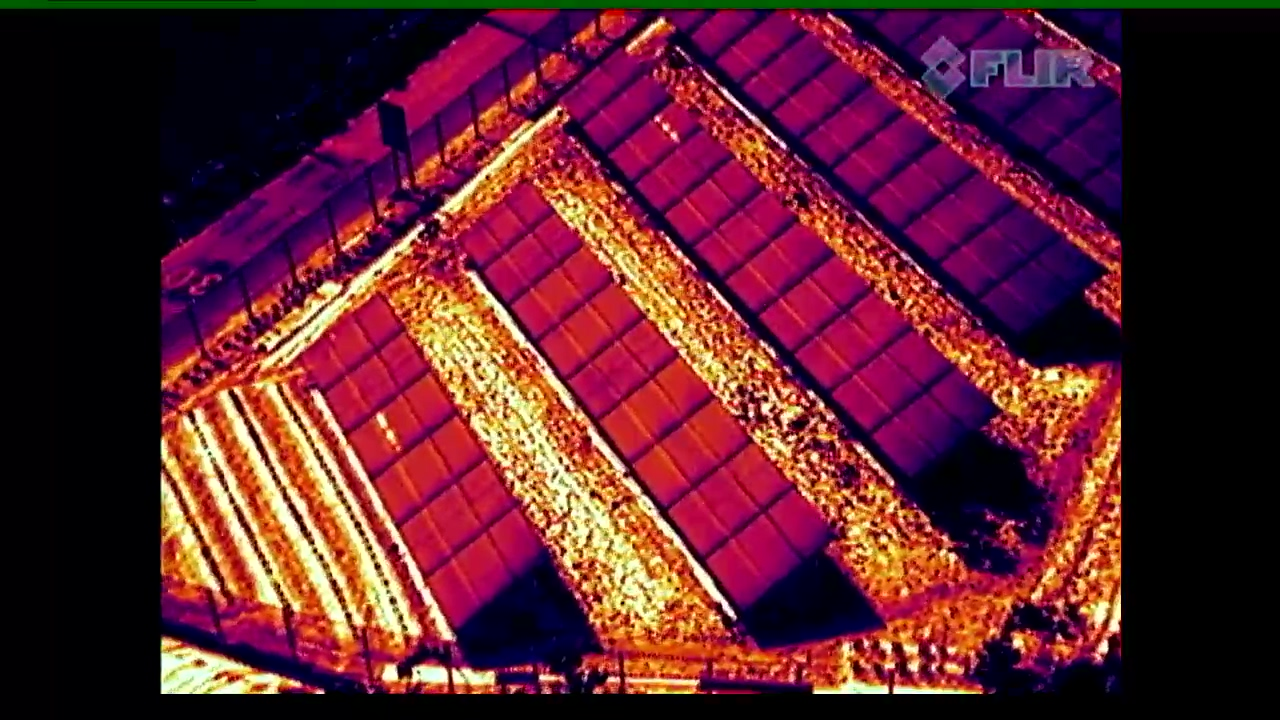hotspot: (332, 374, 462, 473), (601, 102, 706, 180)
